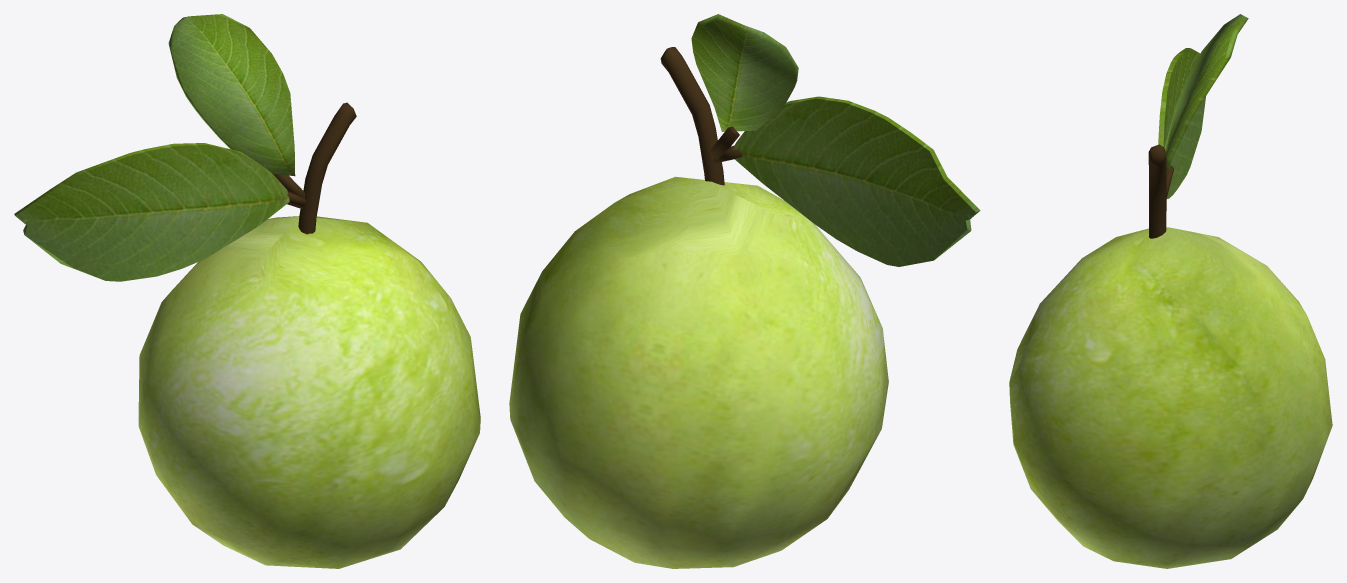
File: Guava.FBX
3 renders of one model, left to right at view 1: azimuth 30°, elevation 25°; view 2: azimuth 150°, elevation 25°; view 3: azimuth 270°, elevation 25°, orthographic. The views are drawn at different scales.
Visible parts, largest first — view 1: Guava_2, leaves, Object001, stern; view 2: Guava_2, leaves, Object001, stern; view 3: Guava_2, Object001, leaves, stern.
Part boxes in pixels (x1,y1,x2,y2): Guava_2: (138,216,480,568); leaves: (14,143,289,281); Object001: (168,14,295,176); stern: (298,102,356,234); Guava_2: (509,176,888,568); leaves: (732,96,980,266); Object001: (691,14,798,131); stern: (660,47,724,185); Guava_2: (1009,227,1332,568); Object001: (1164,14,1248,174); leaves: (1158,48,1205,198); stern: (1148,144,1166,238).
Size of the model in its own units: 361 by 429 by 253.
Materials: 3 (2 with a texture image).
